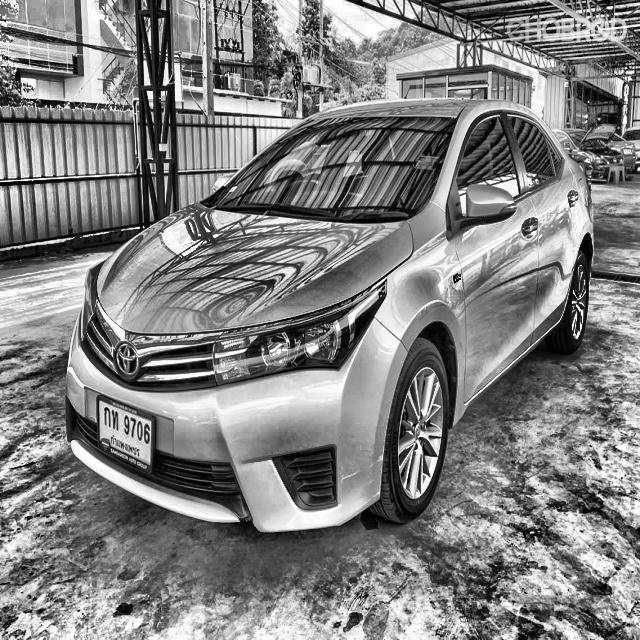license-plate: (90, 389, 163, 483)
